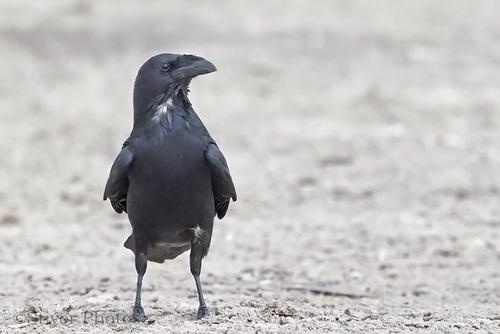bird: (102, 51, 233, 323)
